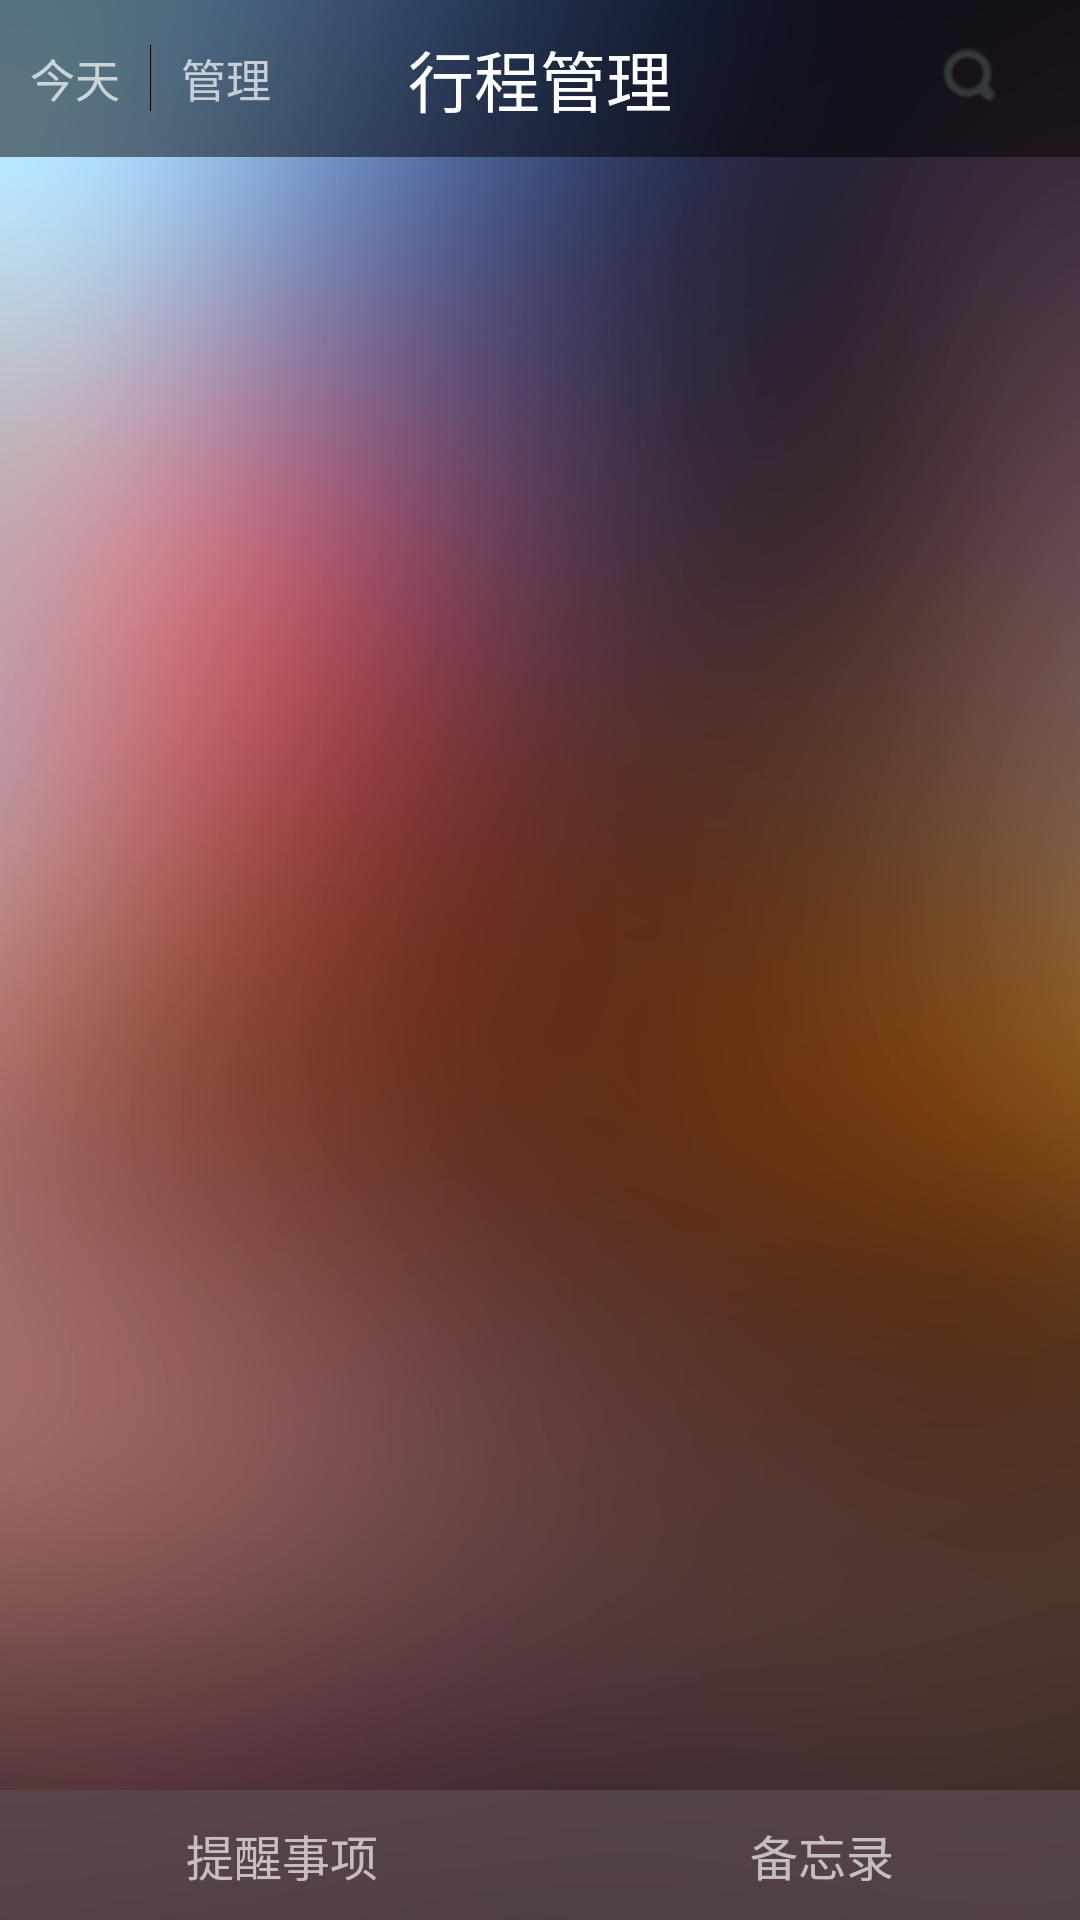

Screen size 1080w x 1920h. Icon name, then its box in pixels as (x1, y1, x2, y2):
title seh: (945, 50, 994, 100)
